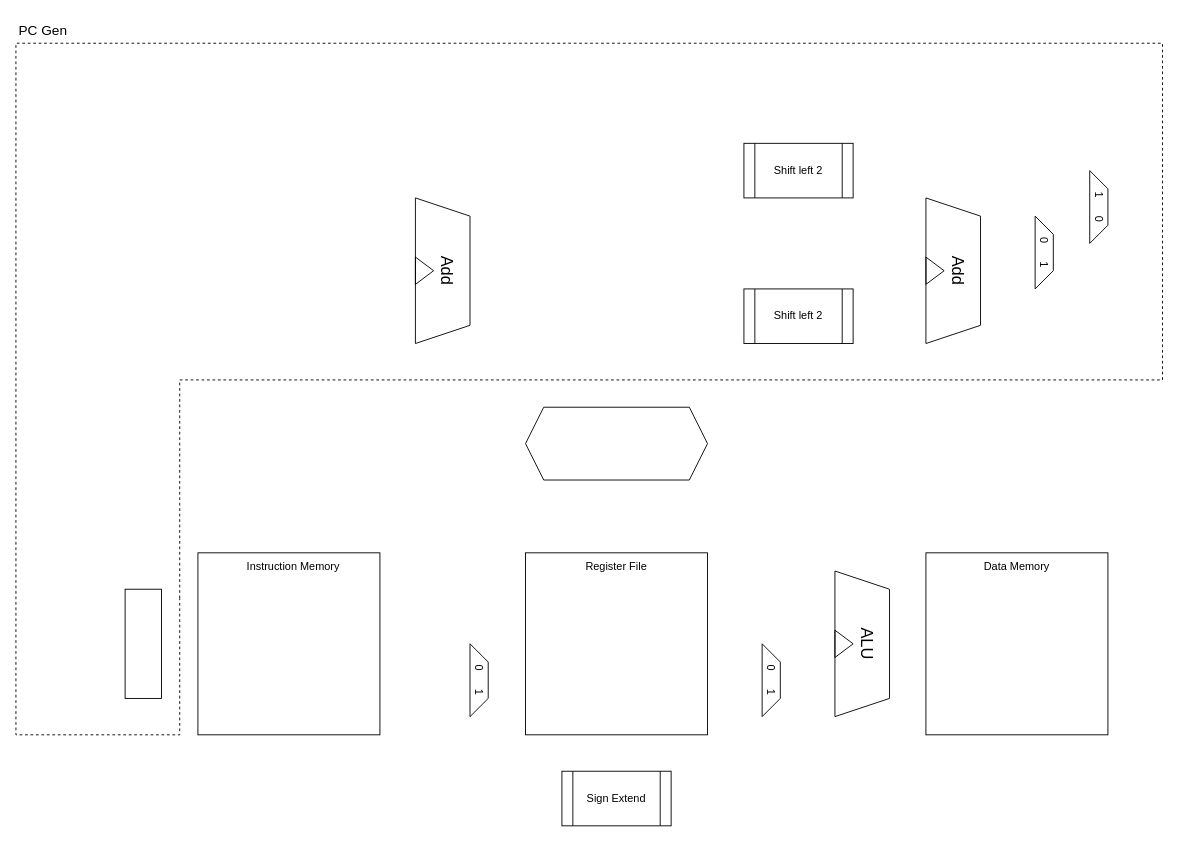
This 1179x842 diagram has some shape labels left out. The shapes that lost their labels are listed below. From the top down, each one's centre as x and y in pixels, then its label:
the point at 616,443: Control Unit
the point at 143,643: PC
